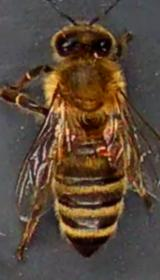varroa_mite: (92, 138, 119, 158)
